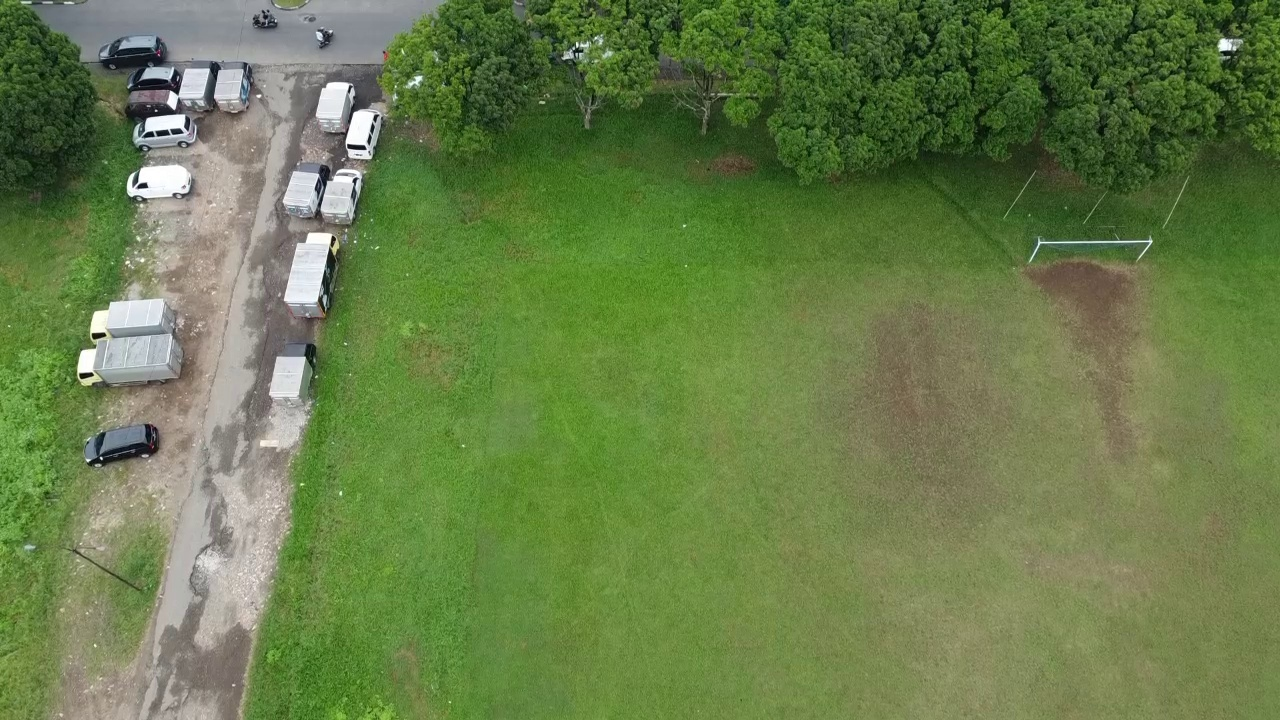mobil: (81, 423, 163, 463), (122, 161, 196, 204), (91, 30, 170, 67), (131, 117, 201, 151), (348, 105, 387, 160), (120, 87, 181, 119), (124, 63, 181, 95)
